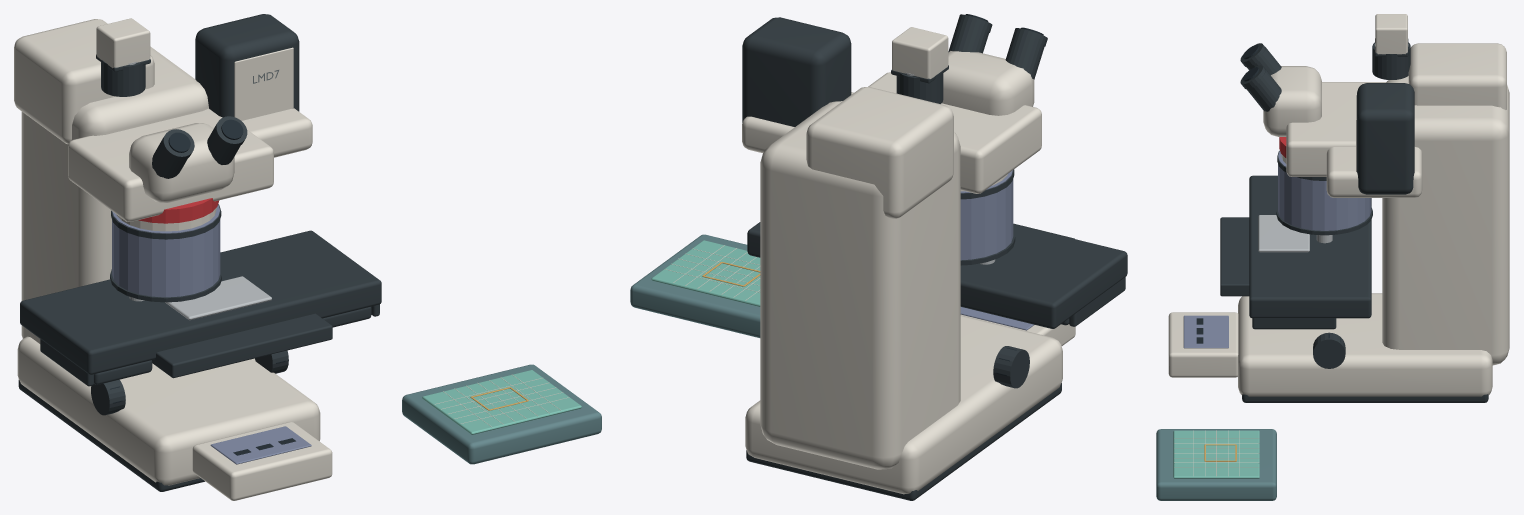
Rendered from lmd7.glb.
The picture shows the model from 3 angles, left to right: view 1: azimuth 30°, elevation 25°; view 2: azimuth 150°, elevation 25°; view 3: azimuth 270°, elevation 25°; orthographic projection. The views are drawn at different scales.
Parts seen in each view (by area): view 1: LMD7_stage_main, LMD7_base_plinth, LMD7_rear_column, LMD7_binocular_platform, LMD7_rear_head_cap, Separate_annotation_board, LMD7_static_guard_skirt, LMD7_side_module_outer, LMD7_blank_base_console, Synthetic_grid_panel, LMD7_stage_carriage, LMD7_eyepiece_yoke (+15 smaller); view 2: LMD7_rear_column, LMD7_base_plinth, LMD7_rear_head_cap, LMD7_stage_main, LMD7_side_module_outer, LMD7_binocular_platform, Separate_annotation_board, LMD7_eyepiece_yoke, Synthetic_grid_panel, LMD7_static_guard_skirt, LMD7_top_camera_shell, LMD7_base_skirt (+8 smaller); view 3: LMD7_rear_column, LMD7_base_plinth, LMD7_stage_main, LMD7_side_module_outer, LMD7_rear_head_cap, Separate_annotation_board, LMD7_binocular_platform, Synthetic_grid_panel, LMD7_static_guard_skirt, LMD7_blank_base_console, LMD7_eyepiece_yoke, LMD7_stage_carriage (+10 smaller).
Boxes of the visible parts, bbox=[...] form: LMD7_stage_main: bbox=[20, 230, 381, 374]; LMD7_base_plinth: bbox=[17, 336, 320, 485]; LMD7_rear_column: bbox=[21, 46, 208, 343]; LMD7_binocular_platform: bbox=[68, 108, 273, 221]; LMD7_rear_head_cap: bbox=[14, 19, 154, 144]; Separate_annotation_board: bbox=[402, 364, 601, 464]; LMD7_static_guard_skirt: bbox=[112, 204, 220, 297]; LMD7_side_module_outer: bbox=[195, 14, 299, 117]; LMD7_blank_base_console: bbox=[192, 422, 332, 500]; Synthetic_grid_panel: bbox=[422, 370, 581, 434]; LMD7_stage_carriage: bbox=[152, 313, 332, 378]; LMD7_eyepiece_yoke: bbox=[129, 123, 234, 202]; LMD7_rear_column: bbox=[760, 101, 960, 469]; LMD7_base_plinth: bbox=[745, 315, 1062, 494]; LMD7_rear_head_cap: bbox=[806, 87, 953, 218]; LMD7_stage_main: bbox=[747, 222, 1127, 328]; LMD7_side_module_outer: bbox=[742, 17, 851, 126]; LMD7_binocular_platform: bbox=[868, 72, 1041, 193]; Separate_annotation_board: bbox=[630, 234, 760, 337]; LMD7_eyepiece_yoke: bbox=[942, 51, 1034, 115]; Synthetic_grid_panel: bbox=[651, 240, 760, 306]; LMD7_static_guard_skirt: bbox=[960, 170, 1013, 260]; LMD7_top_camera_shell: bbox=[892, 27, 948, 78]; LMD7_base_skirt: bbox=[746, 383, 1061, 500]; LMD7_rear_column: bbox=[1382, 76, 1509, 365]; LMD7_base_plinth: bbox=[1238, 293, 1492, 396]; LMD7_stage_main: bbox=[1249, 175, 1371, 318]; LMD7_side_module_outer: bbox=[1357, 83, 1414, 194]; LMD7_rear_head_cap: bbox=[1408, 43, 1506, 109]; Separate_annotation_board: bbox=[1156, 429, 1276, 500]; LMD7_binocular_platform: bbox=[1286, 82, 1386, 176]; Synthetic_grid_panel: bbox=[1173, 430, 1259, 478]; LMD7_static_guard_skirt: bbox=[1278, 151, 1371, 230]; LMD7_blank_base_console: bbox=[1168, 312, 1238, 377]; LMD7_eyepiece_yoke: bbox=[1263, 66, 1321, 136]; LMD7_stage_carriage: bbox=[1220, 217, 1249, 296].
Bounding box in the file's own units: 0.8025 × 0.6496 × 0.618.
